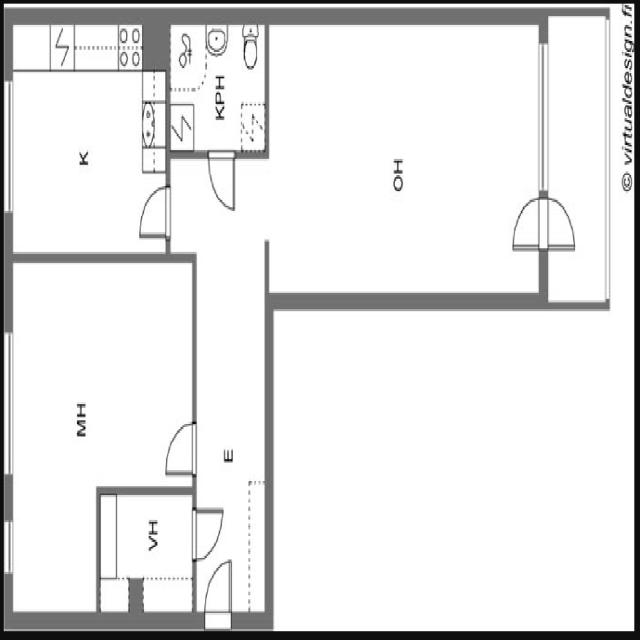door: (501, 192, 581, 255), (185, 493, 228, 572), (198, 549, 240, 623), (157, 416, 204, 482), (136, 180, 173, 242), (206, 148, 238, 215)
window: (532, 32, 555, 201), (2, 326, 18, 483), (2, 73, 17, 218), (4, 516, 17, 578)
zone: (262, 21, 544, 300), (8, 260, 200, 501), (8, 19, 165, 262), (97, 487, 194, 627), (170, 18, 268, 156)
